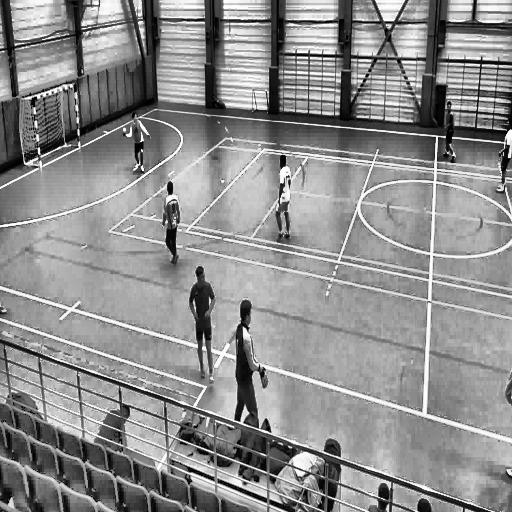ball: (121, 125, 128, 136)
player: (232, 298, 268, 424), (188, 262, 216, 391), (122, 110, 152, 178), (161, 180, 182, 270), (274, 153, 293, 249), (497, 116, 512, 194), (443, 99, 458, 166)
